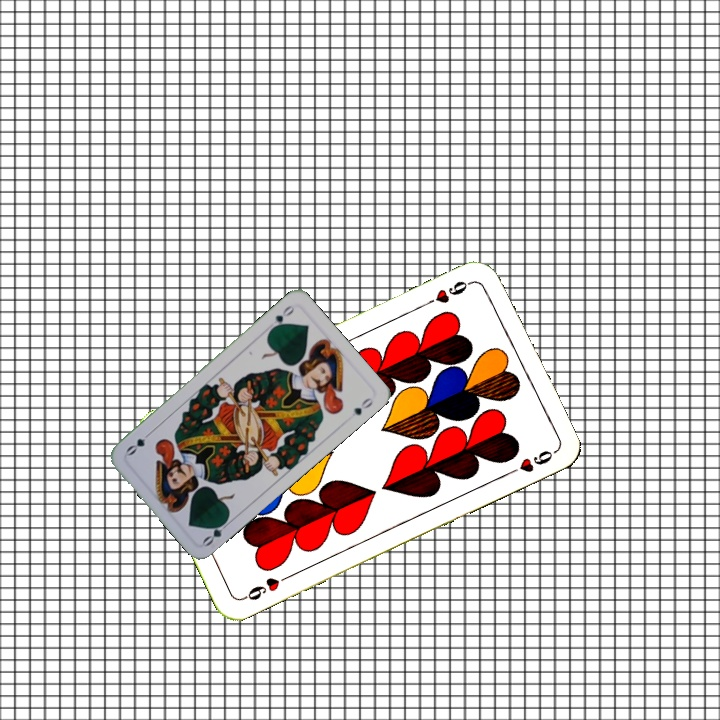GO: (199, 514, 234, 549), (266, 301, 297, 334)
H9: (239, 570, 294, 603), (421, 276, 476, 309)
